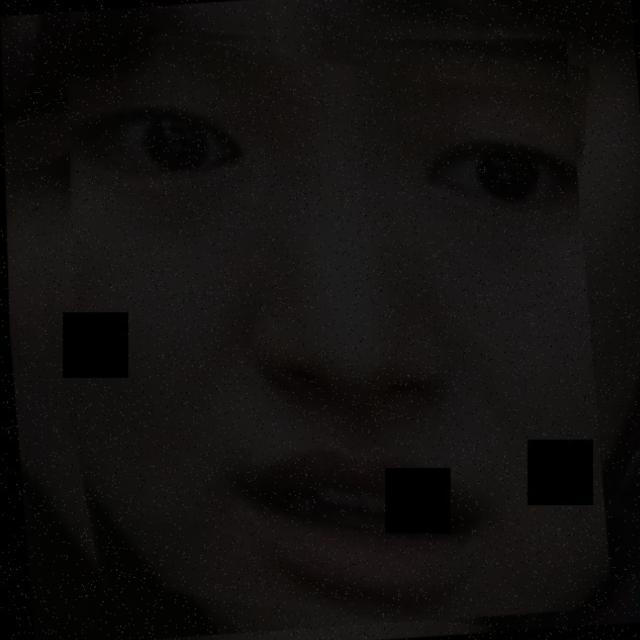Surprised: (69, 42, 613, 585)
